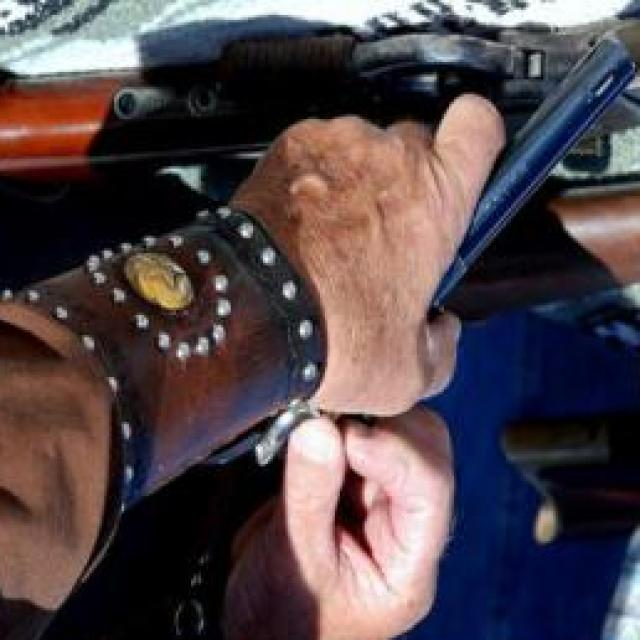pistol: (188, 34, 638, 466)
